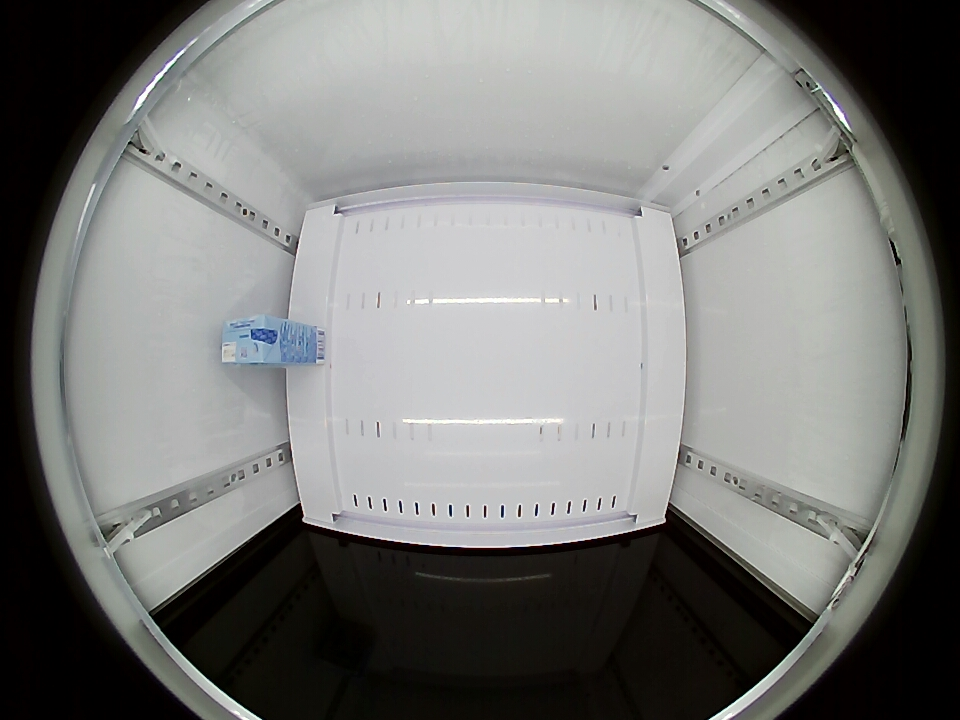weitanaiditang: (221, 314, 282, 366)
